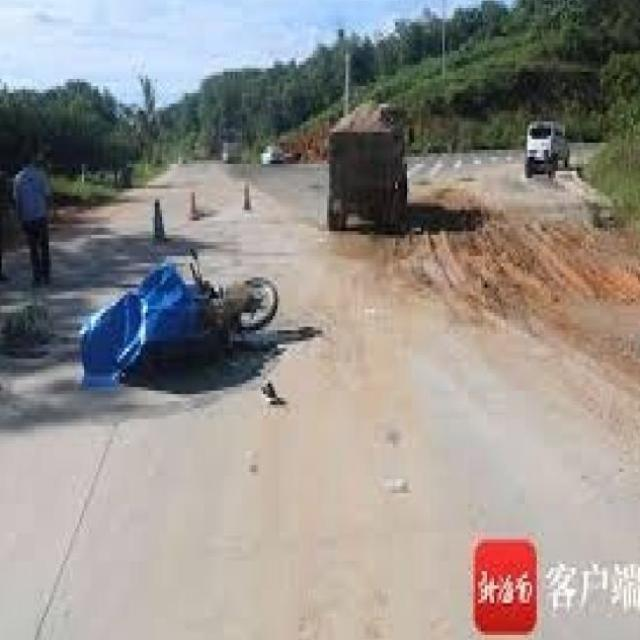accident: (68, 247, 320, 421)
